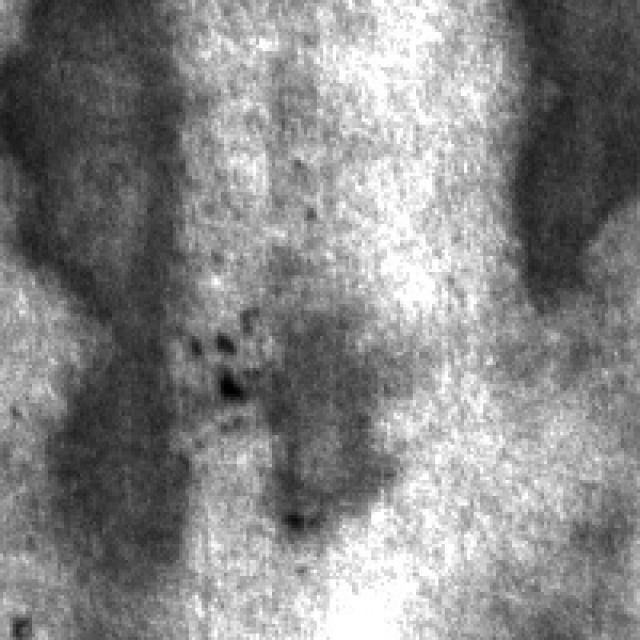inclusion: (192, 314, 250, 400)
patches: (3, 0, 195, 573), (509, 0, 640, 310), (272, 307, 403, 528)
